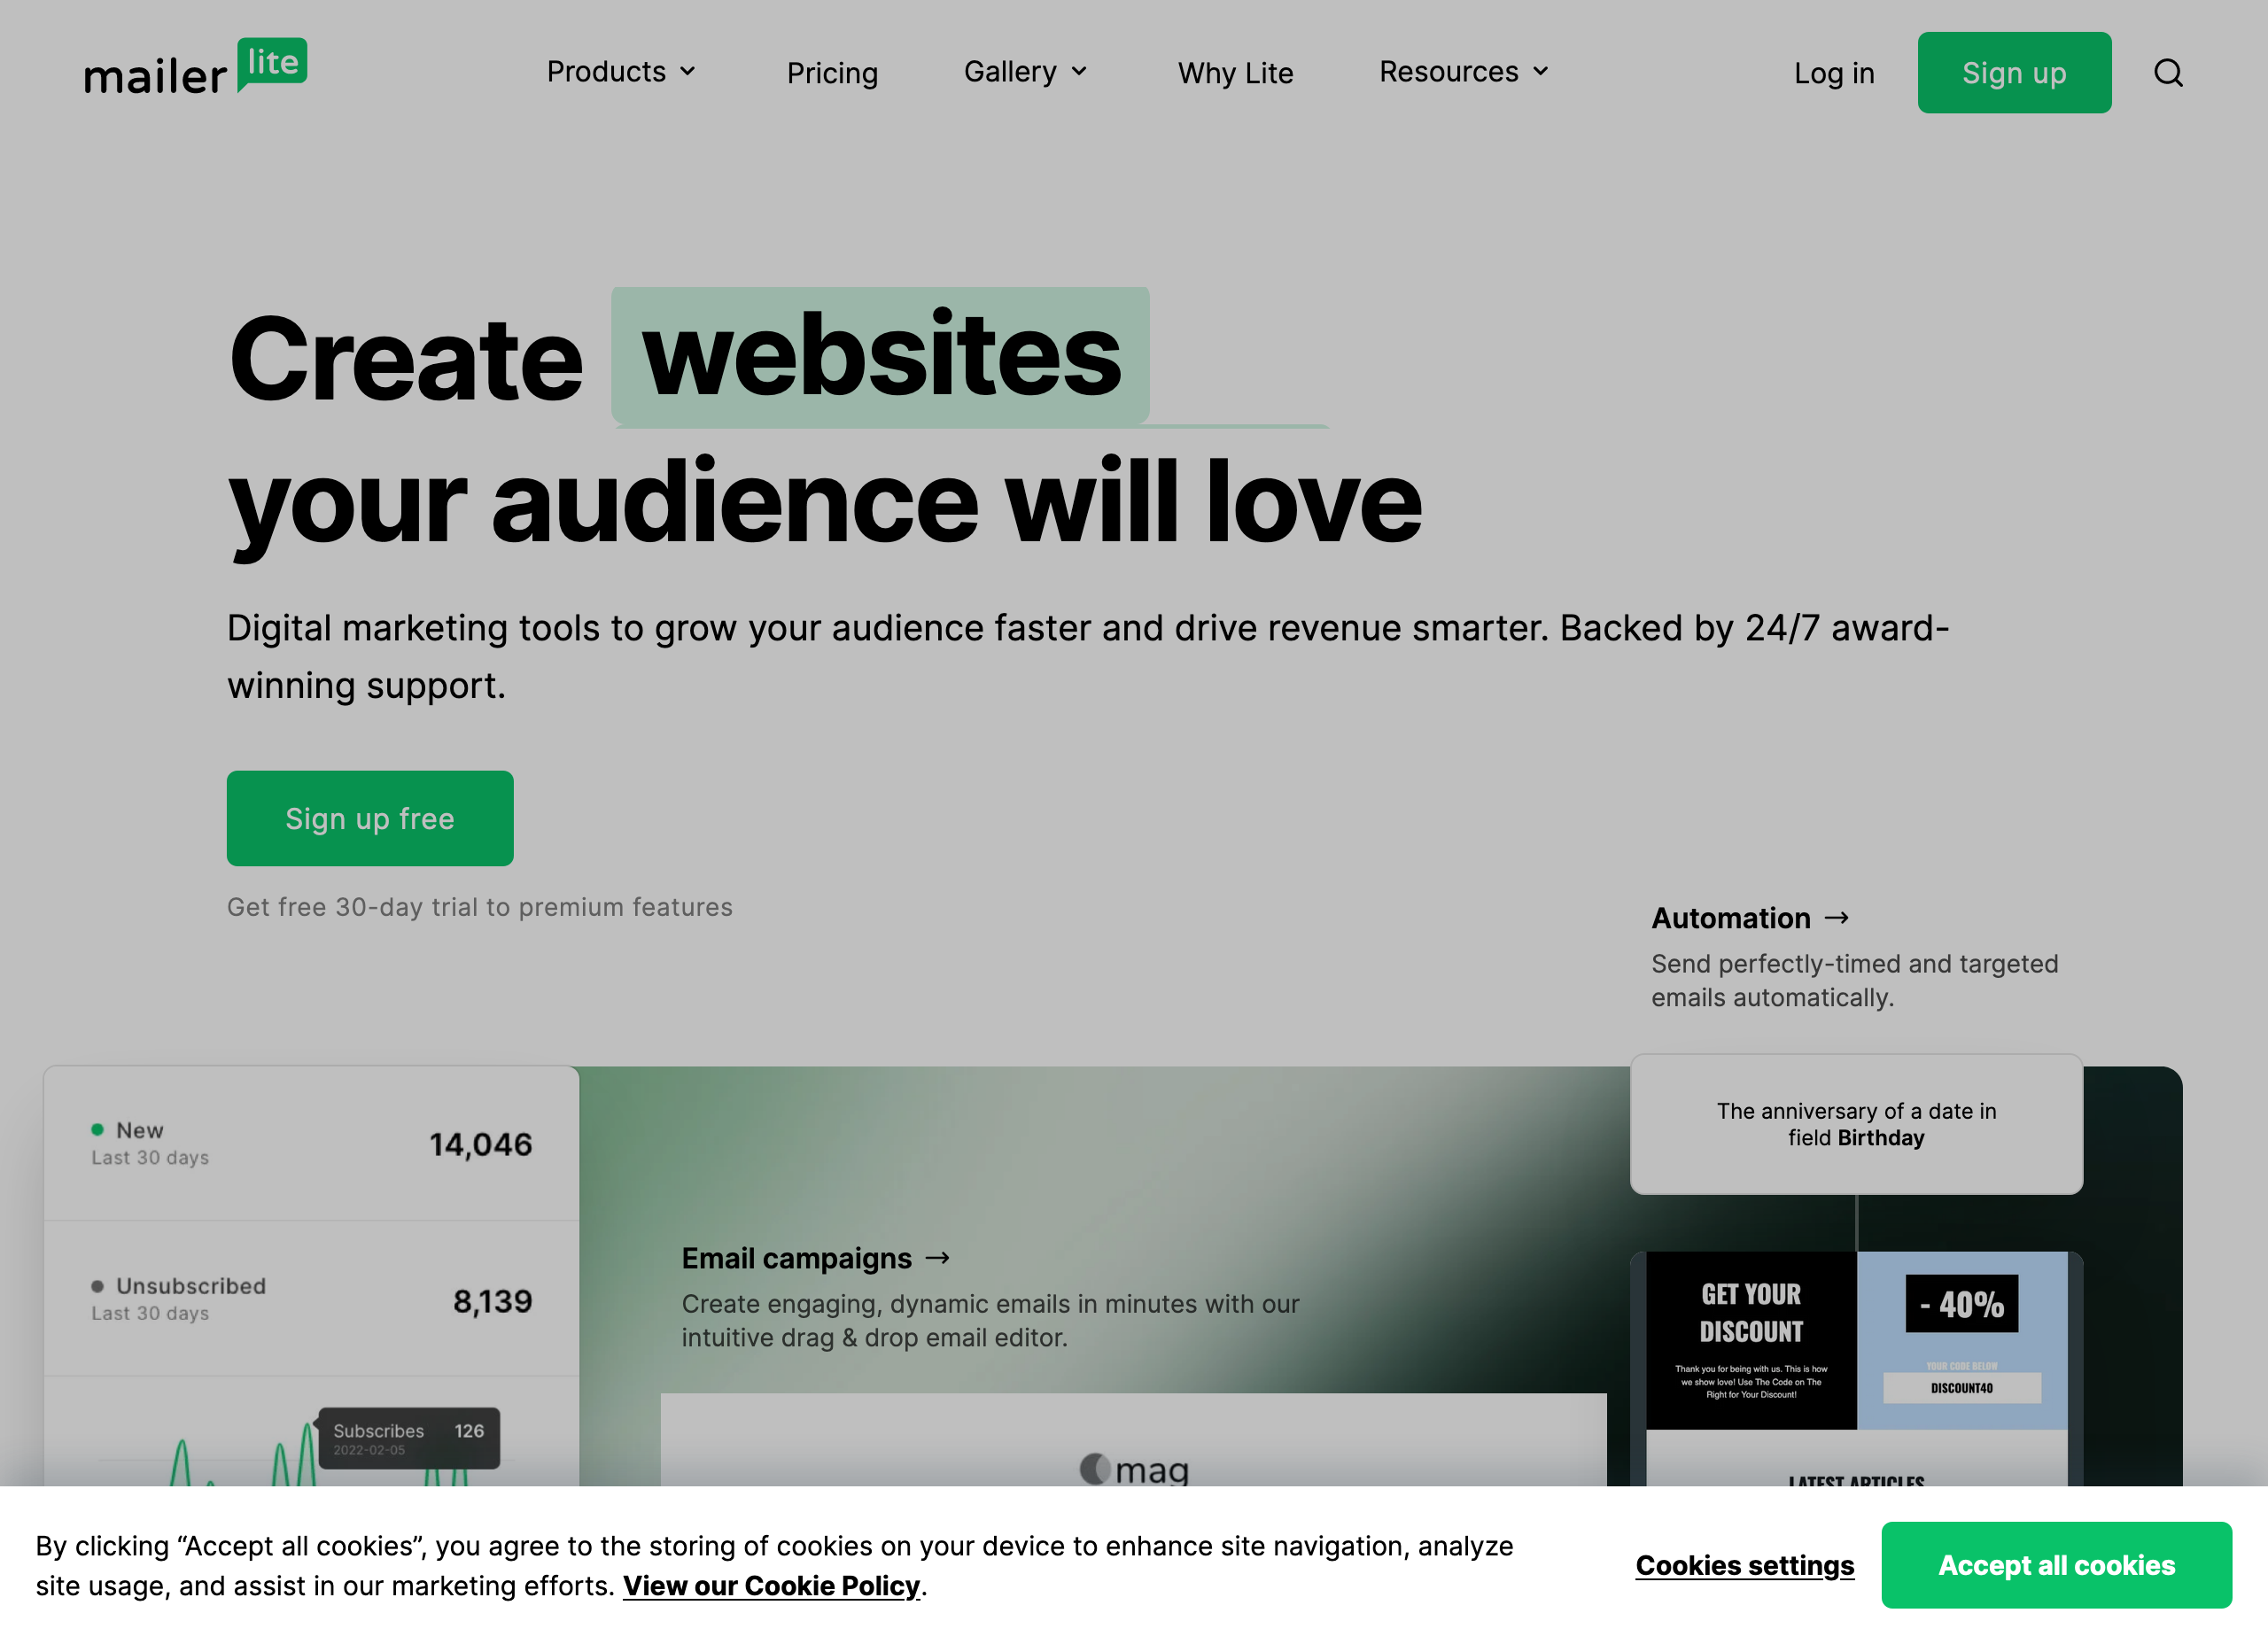Login: (1784, 35, 1884, 111)
